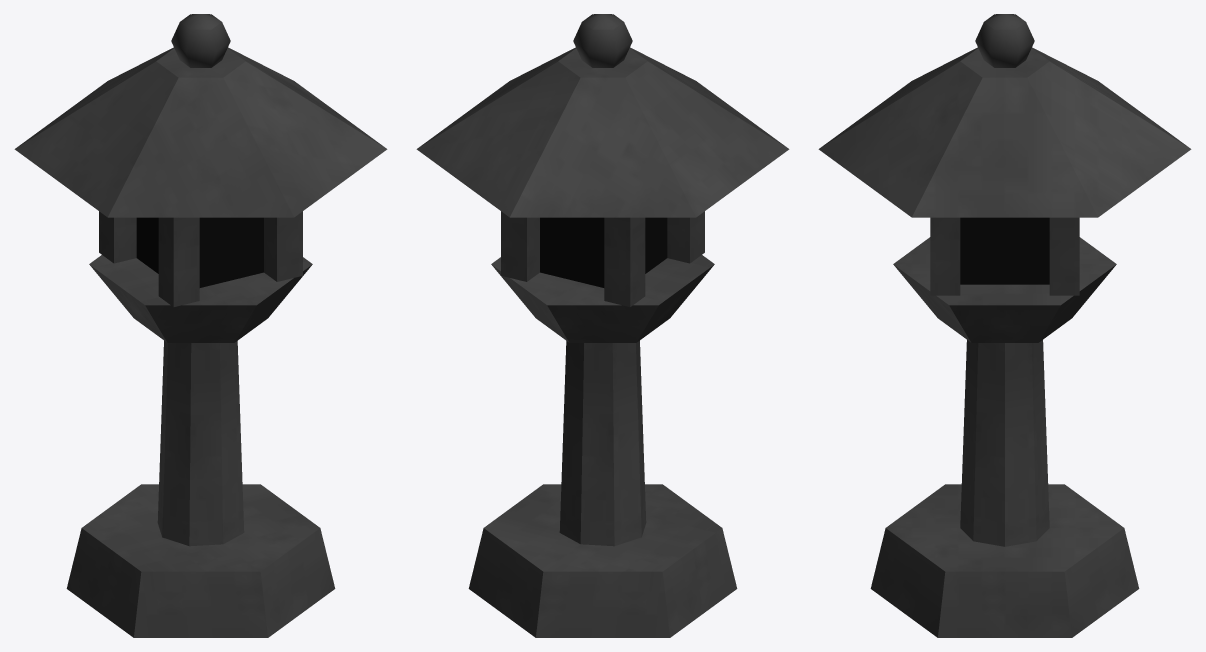
The model's file is stone_lantern.glb.
3 views of the same model, side by side, from view 1: azimuth 30°, elevation 25°; view 2: azimuth 150°, elevation 25°; view 3: azimuth 270°, elevation 25° (orthographic).
Parts seen in each view (by area): view 1: stone_lantern; view 2: stone_lantern; view 3: stone_lantern.
Part boxes in pixels (x1,y1,x2,y2): stone_lantern: [14, 14, 387, 637]; stone_lantern: [416, 14, 789, 637]; stone_lantern: [818, 14, 1191, 637].
Size of the model in its own units: 0.866 by 1.7 by 1.
Materials: 2 (2 with a texture image).
